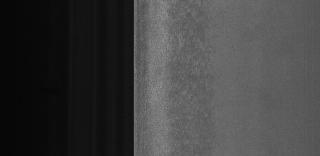silk spot: (166, 7, 220, 144)
